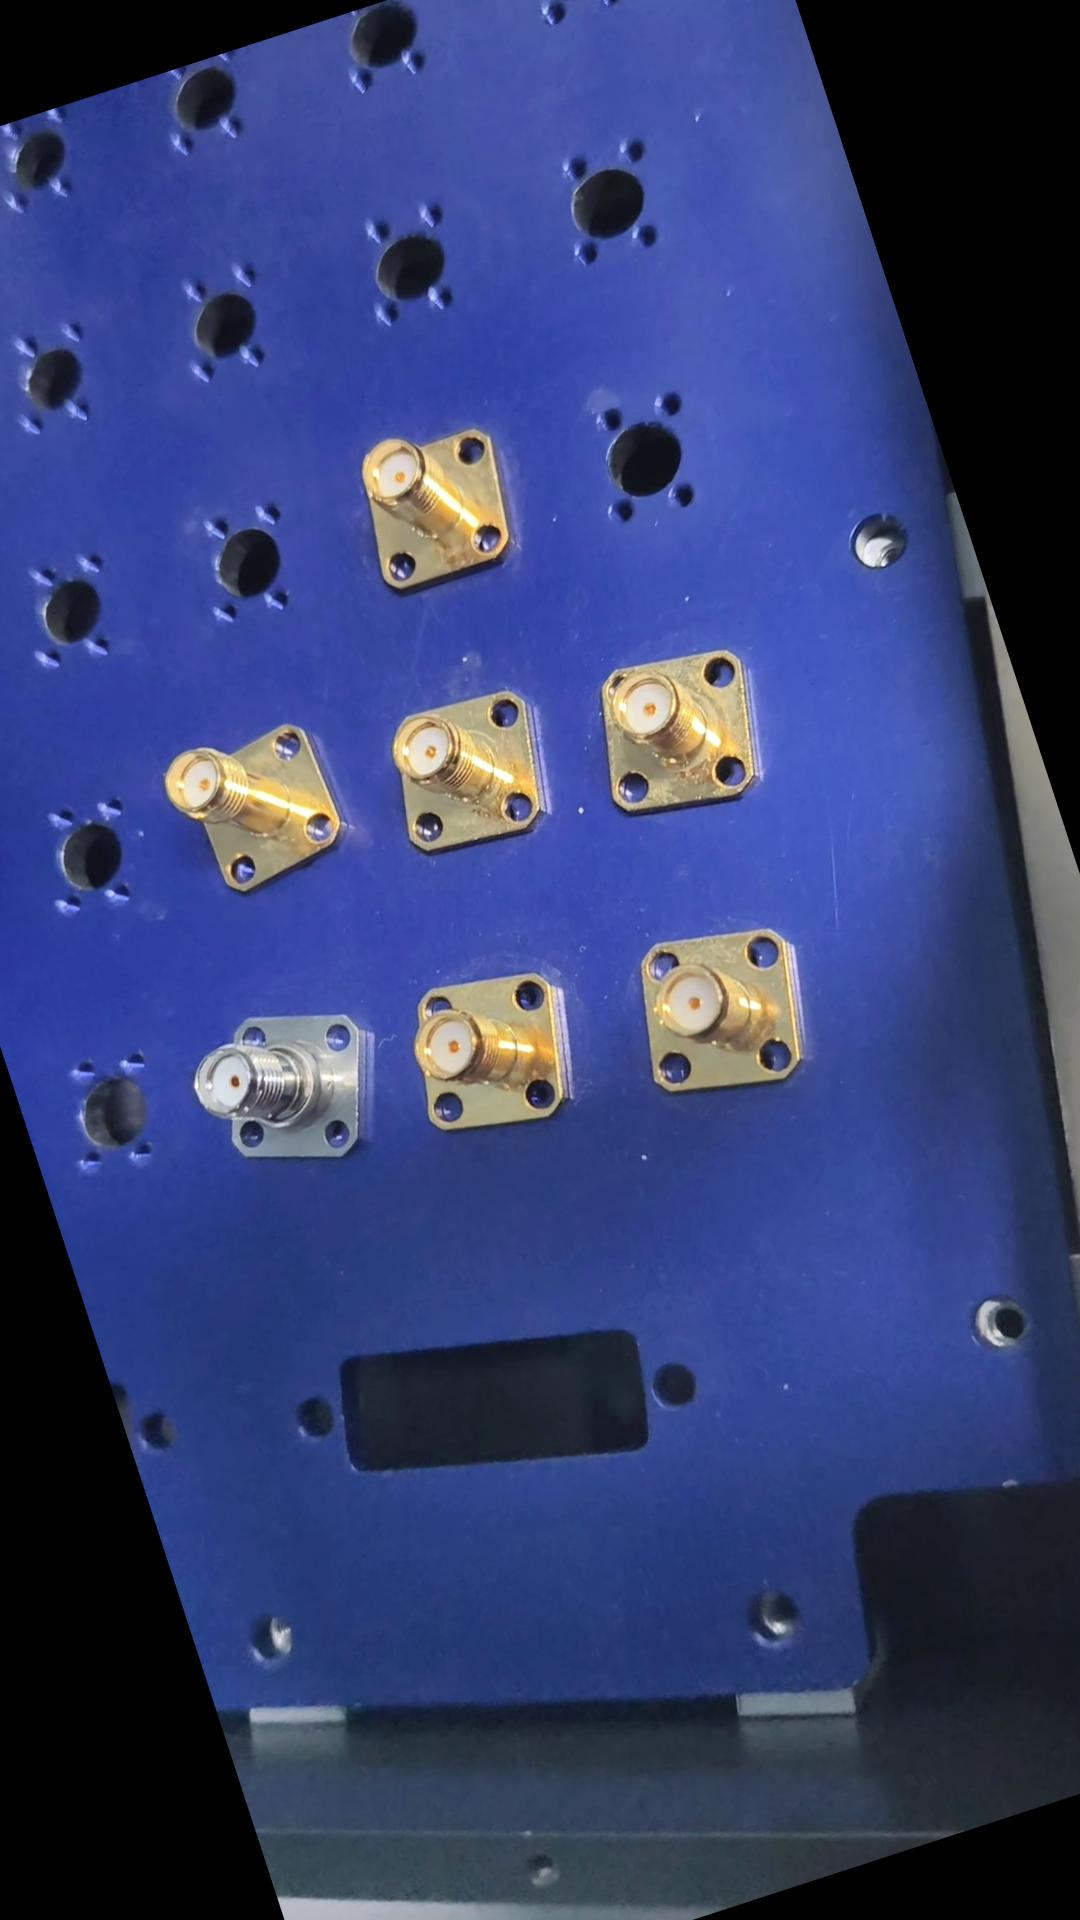SMA: (603, 891, 828, 1122), (384, 938, 599, 1160), (568, 625, 795, 835), (318, 404, 534, 611), (186, 977, 392, 1192), (364, 671, 564, 870), (154, 709, 353, 906)
